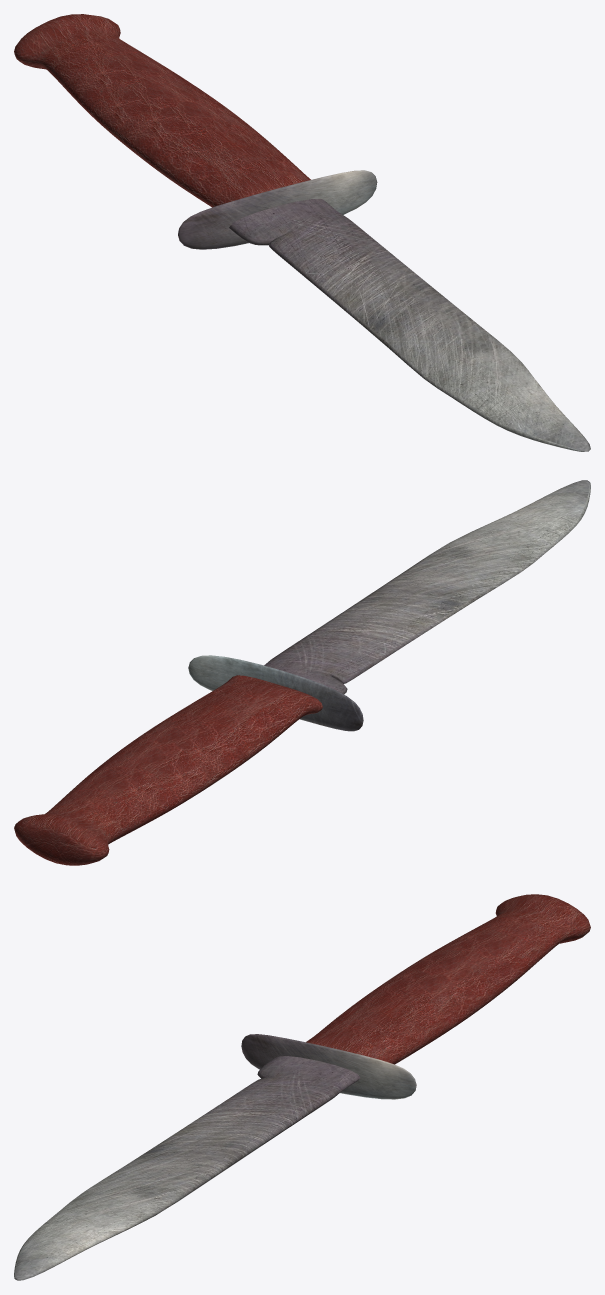
File: simpleknife.fbx
3 views of the same model, one above another, from view 1: azimuth 30°, elevation 25°; view 2: azimuth 150°, elevation 25°; view 3: azimuth 330°, elevation 25° (orthographic). The views are drawn at different scales.
Visible parts, largest first — view 1: cobaknife128.002; view 2: cobaknife128.002; view 3: cobaknife128.002.
Boxes of the visible parts, left/top/right/bottom form: cobaknife128.002: left=14, top=14, right=590, bottom=451; cobaknife128.002: left=14, top=480, right=590, bottom=865; cobaknife128.002: left=14, top=894, right=590, bottom=1280.
Size of the model in its own units: 1.07 by 0.2548 by 5.27.
